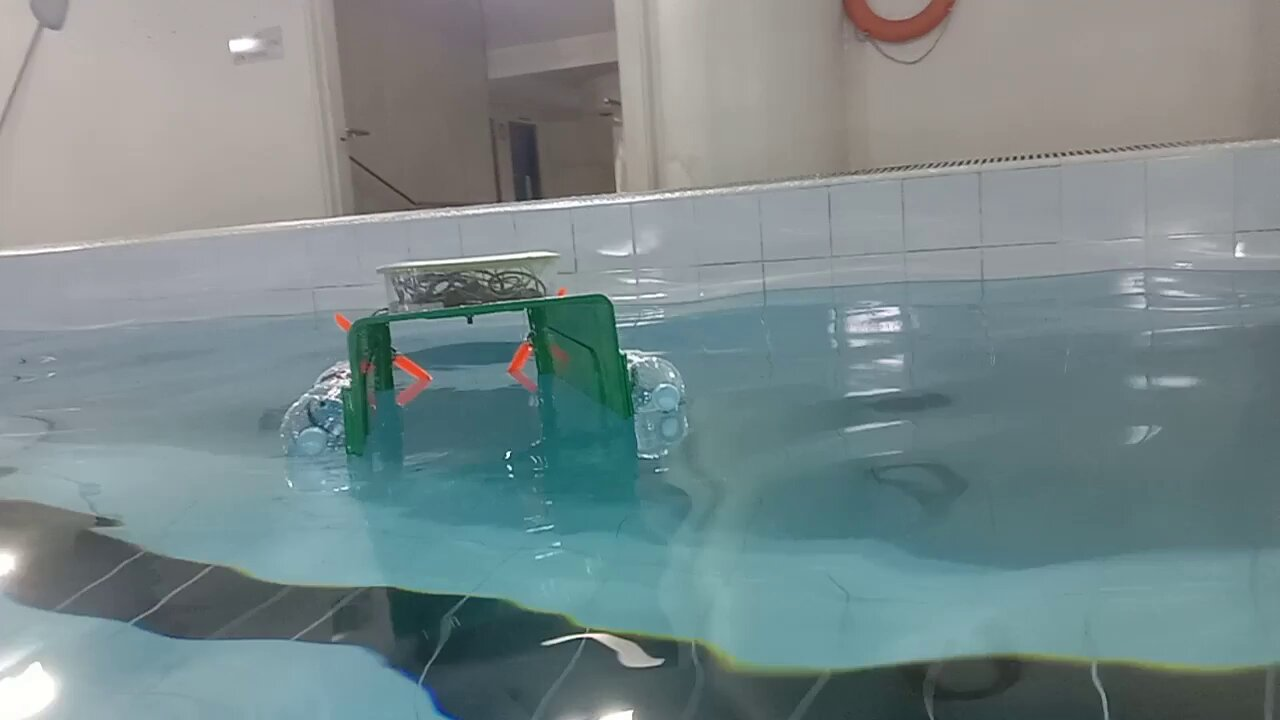drone: (276, 244, 688, 474)
